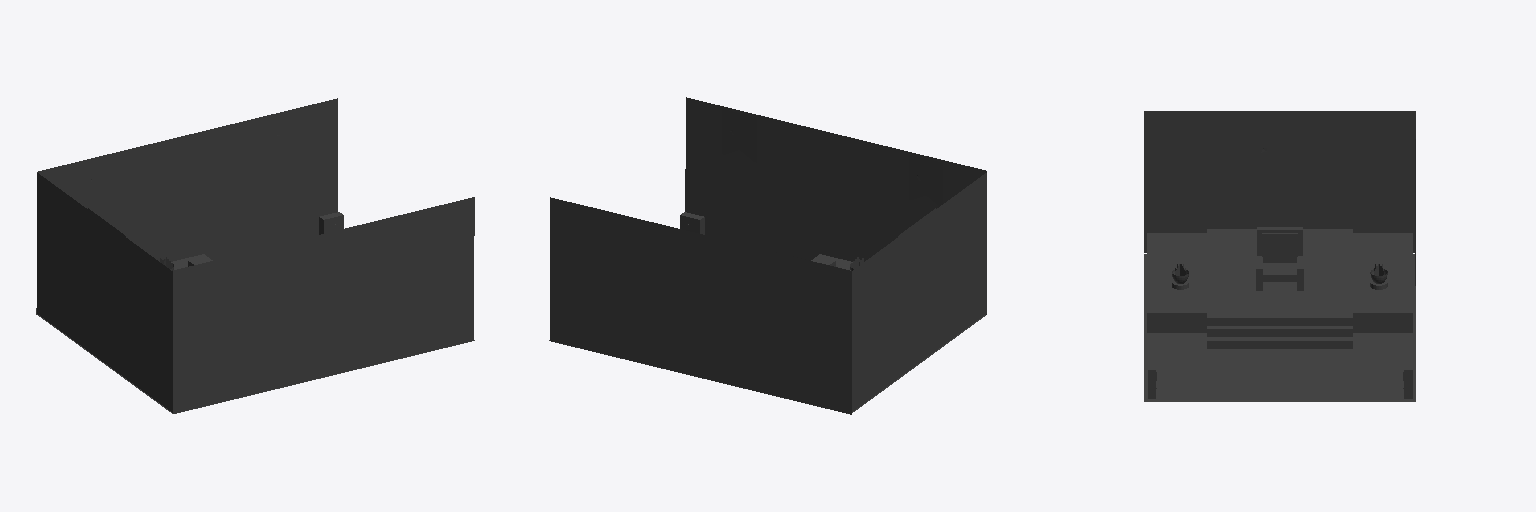
Rendered from kingdom_tana.obj.
3 renders of one model, left to right at view 1: azimuth 30°, elevation 25°; view 2: azimuth 150°, elevation 25°; view 3: azimuth 270°, elevation 25°, orthographic.
Parts seen in each view (by area): view 1: Plane.003, Plane.002, Plane.001, Plane.013, Plane.009; view 2: Plane.002, Plane.003, Plane.001, Plane.011, Plane.008; view 3: Plane.001, Plane, 立方体, 立方体.005, 立方体.001, Plane.005, Plane.006, 立方体.006, 立方体.003.
Part boxes in pixels (left/top/right/bottom): Plane.003: left=173, top=197, right=474, bottom=413; Plane.002: left=36, top=98, right=337, bottom=314; Plane.001: left=37, top=173, right=172, bottom=412; Plane.013: left=268, top=109, right=301, bottom=162; Plane.009: left=81, top=155, right=114, bottom=206; Plane.002: left=550, top=197, right=851, bottom=414; Plane.003: left=685, top=97, right=986, bottom=314; Plane.001: left=852, top=173, right=986, bottom=411; Plane.011: left=722, top=109, right=756, bottom=162; Plane.008: left=909, top=155, right=942, bottom=206; Plane.001: left=1144, top=111, right=1415, bottom=252; Plane: left=1144, top=254, right=1415, bottom=401; 立方体: left=1207, top=229, right=1352, bottom=348; 立方体.005: left=1147, top=233, right=1206, bottom=332; 立方体.001: left=1353, top=233, right=1412, bottom=332; Plane.005: left=1243, top=113, right=1316, bottom=197; Plane.006: left=1251, top=120, right=1307, bottom=181; 立方体.006: left=1256, top=227, right=1303, bottom=290; 立方体.003: left=1262, top=233, right=1297, bottom=262.
Bounding box in the file's own units: 79.53 × 36.2 × 61.88.